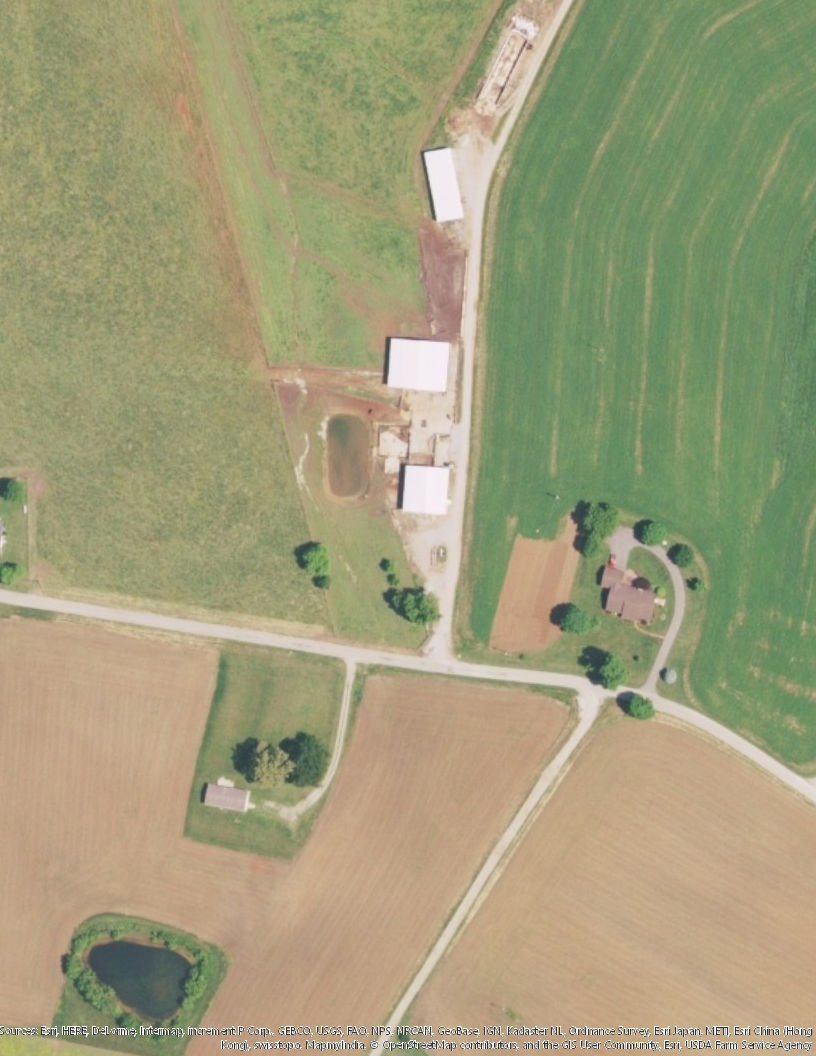cafo: (379, 334, 459, 396), (419, 141, 471, 226), (391, 459, 457, 518)
